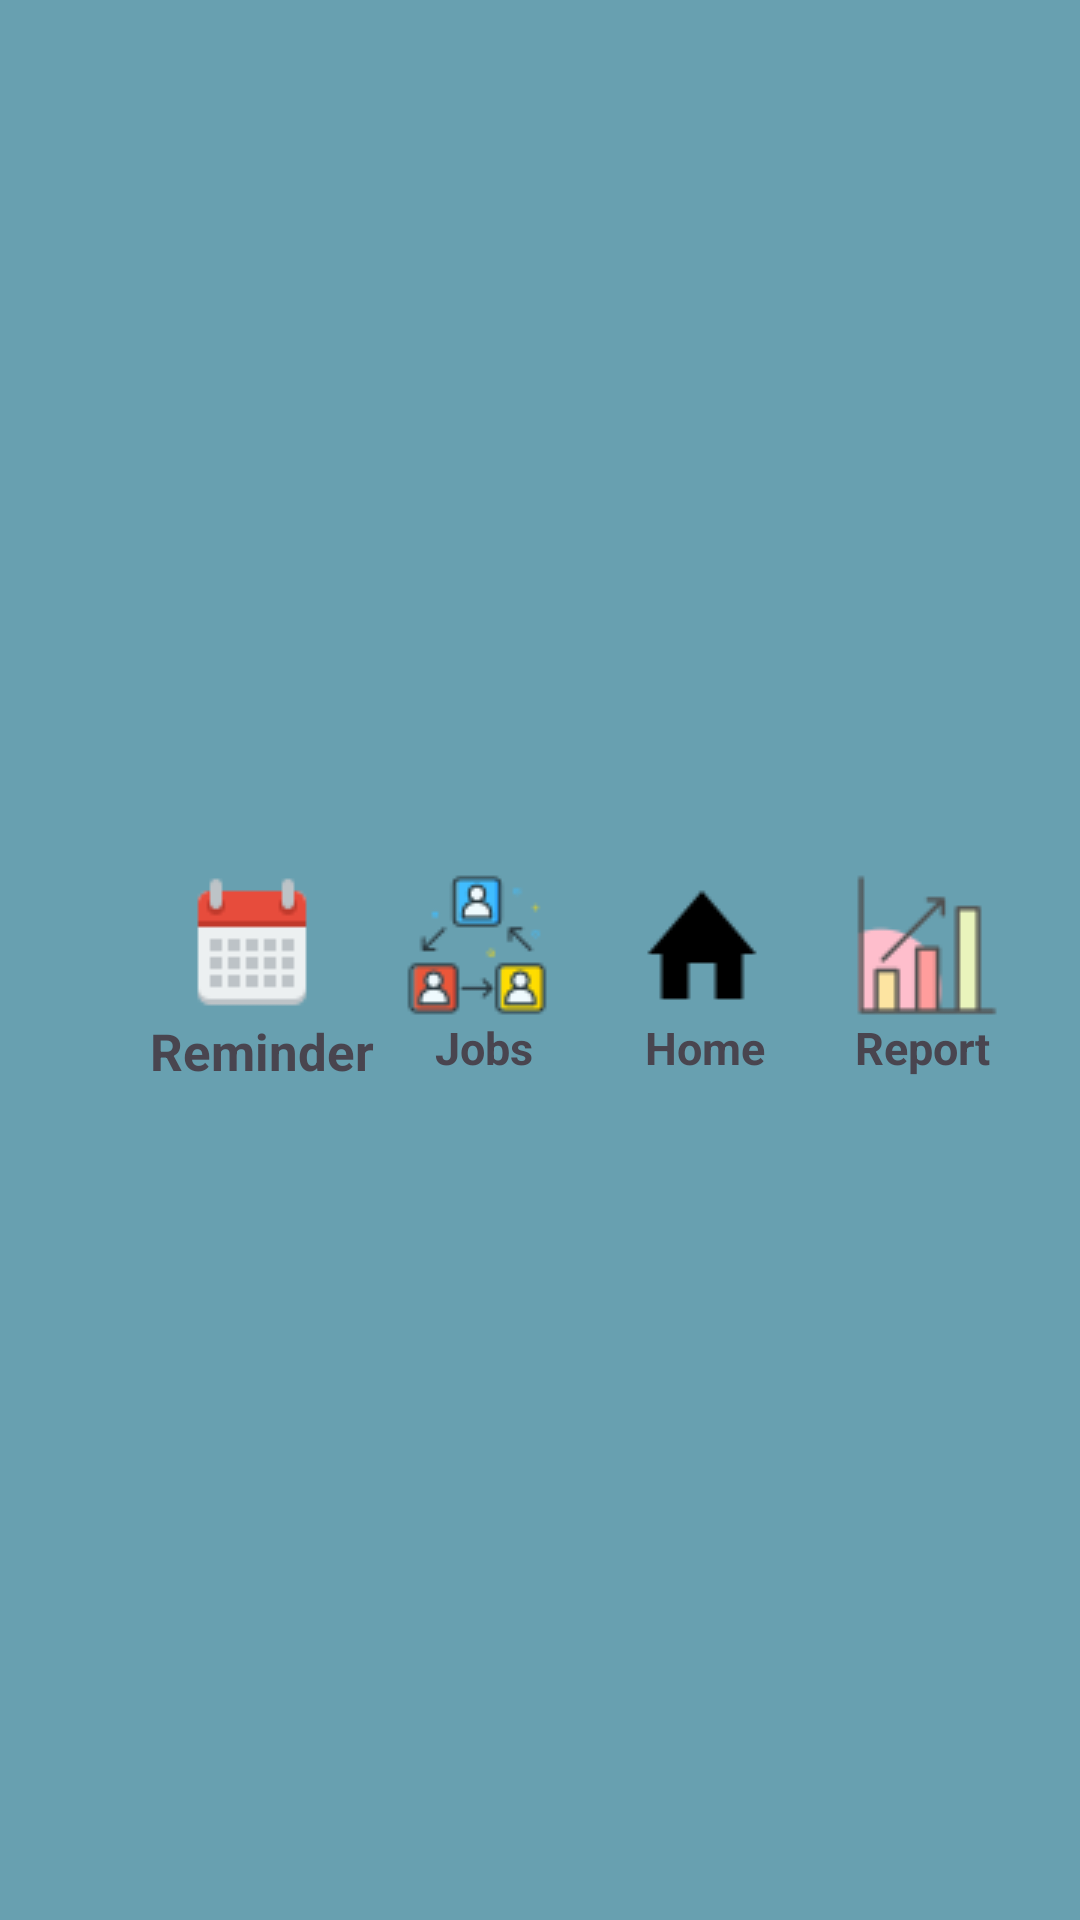

Locate icon controls on the screen. Image size 1080 × 1920, boxes as {"x1": x1, "y1": y1, "x2": x2, "y2": y2}.
analytics: {"x1": 858, "y1": 876, "x2": 996, "y2": 1015}
calendar: {"x1": 197, "y1": 878, "x2": 307, "y2": 1006}
